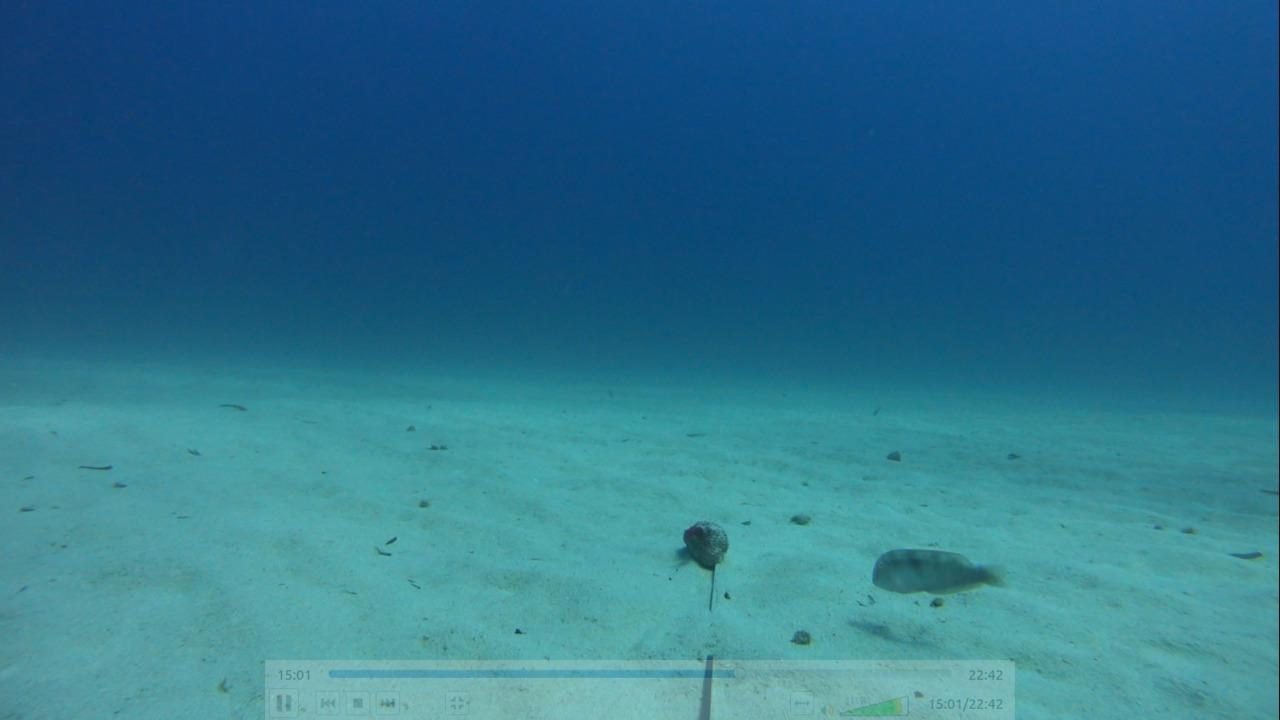raor: (865, 541, 1002, 598)
